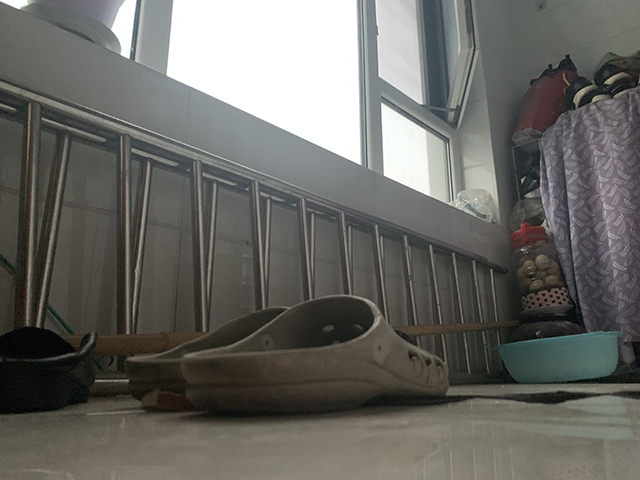slippers: (181, 285, 451, 417), (116, 307, 290, 408)
